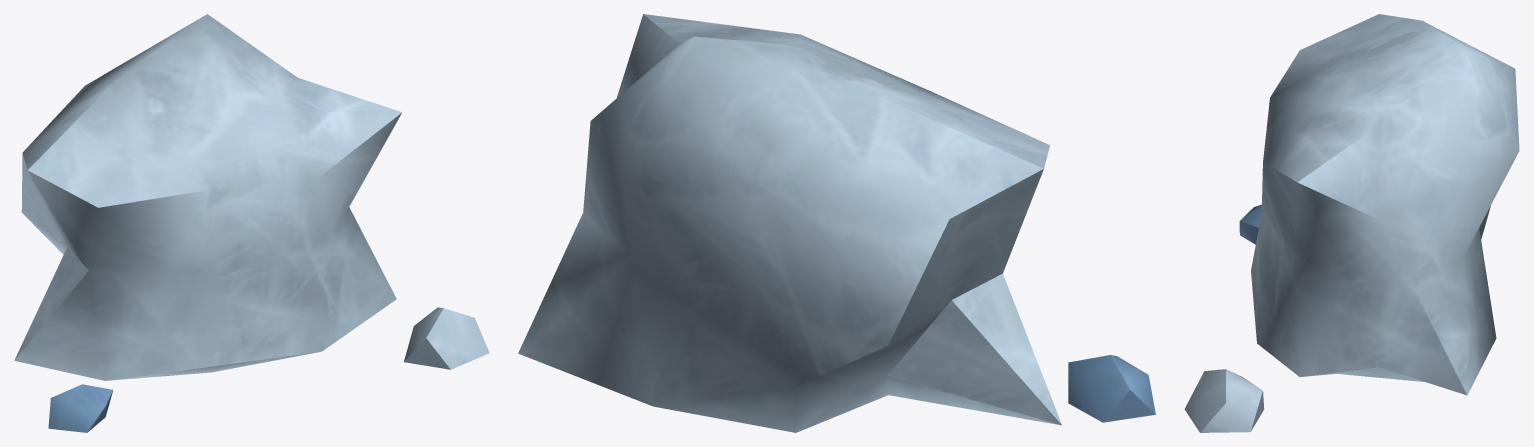
Rendered from ice_block_2.glb.
3 views of the same model, side by side, from view 1: azimuth 30°, elevation 25°; view 2: azimuth 150°, elevation 25°; view 3: azimuth 270°, elevation 25° (orthographic). The views are drawn at different scales.
Visible parts, largest first — view 1: te_prop_ice_block_2; view 2: te_prop_ice_block_2; view 3: te_prop_ice_block_2.
Boxes of the visible parts, x1,y1,x2,y2 form: te_prop_ice_block_2: (14,14,489,432); te_prop_ice_block_2: (518,14,1155,432); te_prop_ice_block_2: (1184,14,1519,432).
Bounding box in the file's own units: 0.2275 × 0.1525 × 0.1532.
1 material, 1 textured.
